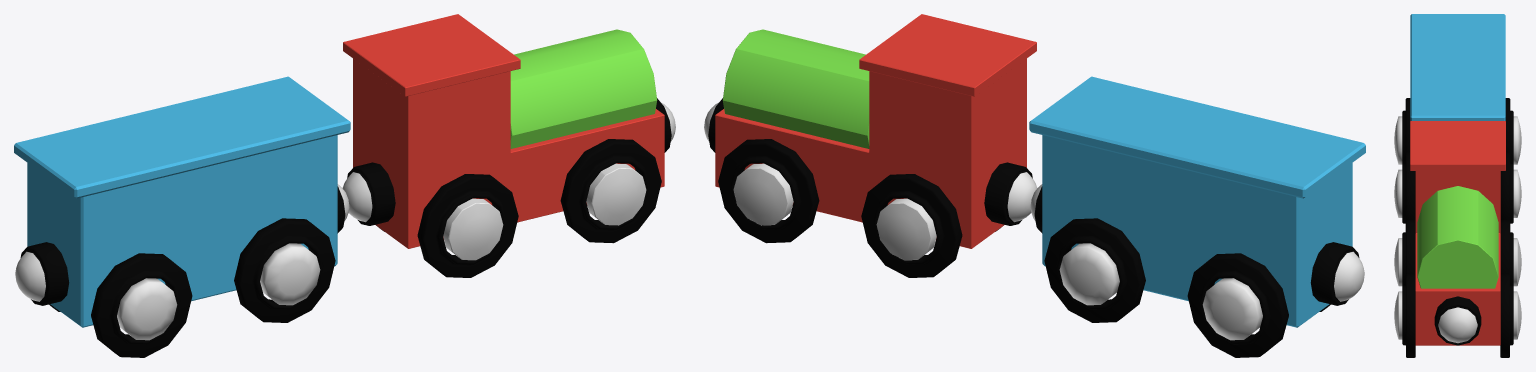
The model's file is train_export1.fbx.
The picture shows the model from 3 angles, left to right: view 1: azimuth 30°, elevation 25°; view 2: azimuth 150°, elevation 25°; view 3: azimuth 270°, elevation 25°; orthographic projection. The views are drawn at different scales.
Visible parts, largest first — view 1: wheel, base.001; view 2: wheel, base.001; view 3: base.001, wheel.
Part boxes in pixels (<box>): wheel: <box>14,76,350,357</box>; base.001: <box>342,14,675,277</box>; wheel: <box>1029,76,1365,357</box>; base.001: <box>704,14,1037,277</box>; base.001: <box>1394,121,1521,357</box>; wheel: <box>1394,14,1521,231</box>.
Bounding box in the file's own units: 1354 × 405 × 299.
